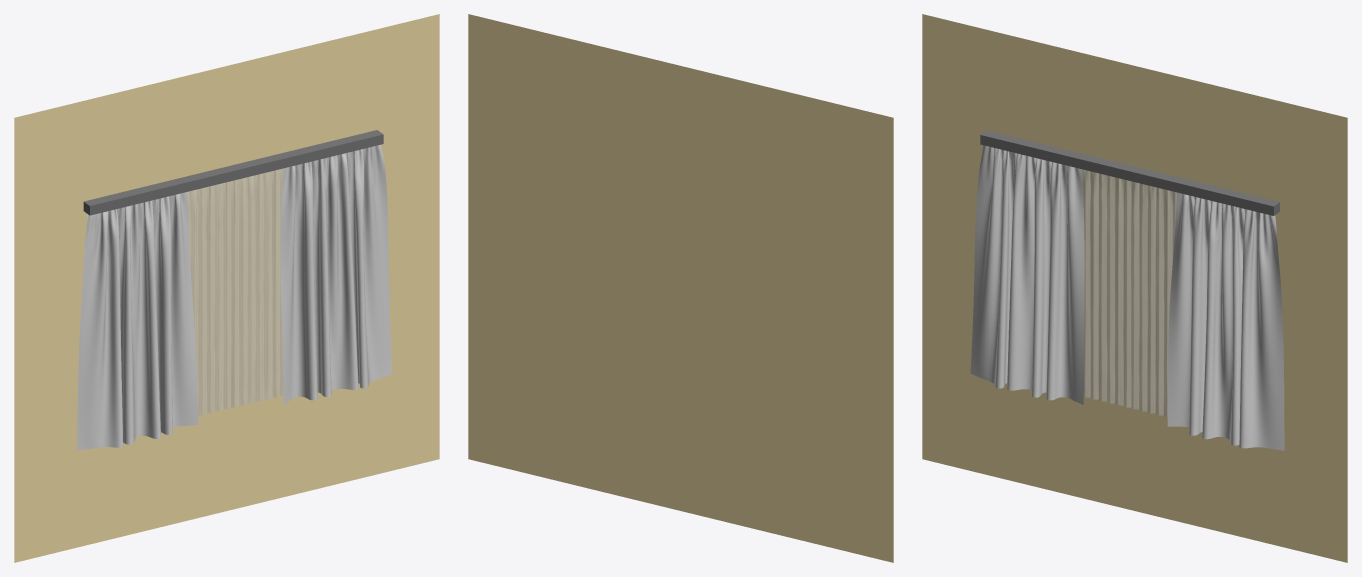
Rendered from Curtains 001.FBX.
3 renders of one model, left to right at view 1: azimuth 30°, elevation 25°; view 2: azimuth 150°, elevation 25°; view 3: azimuth 330°, elevation 25°, orthographic.
Parts seen in each view (by area): view 1: Wall, Curtains, Tulle, Cornice; view 2: Wall; view 3: Wall, Curtains, Tulle, Cornice.
Boxes of the visible parts, left/top/right/bottom form: Wall: left=14, top=14, right=439, bottom=562; Curtains: left=77, top=144, right=391, bottom=450; Tulle: left=86, top=168, right=283, bottom=415; Cornice: left=83, top=130, right=383, bottom=215; Wall: left=468, top=14, right=893, bottom=562; Wall: left=922, top=14, right=1347, bottom=562; Curtains: left=970, top=145, right=1284, bottom=450; Tulle: left=1082, top=169, right=1177, bottom=417; Cornice: left=980, top=130, right=1279, bottom=215.
Bounding box in the file's own units: 138 × 138 × 9.38.
